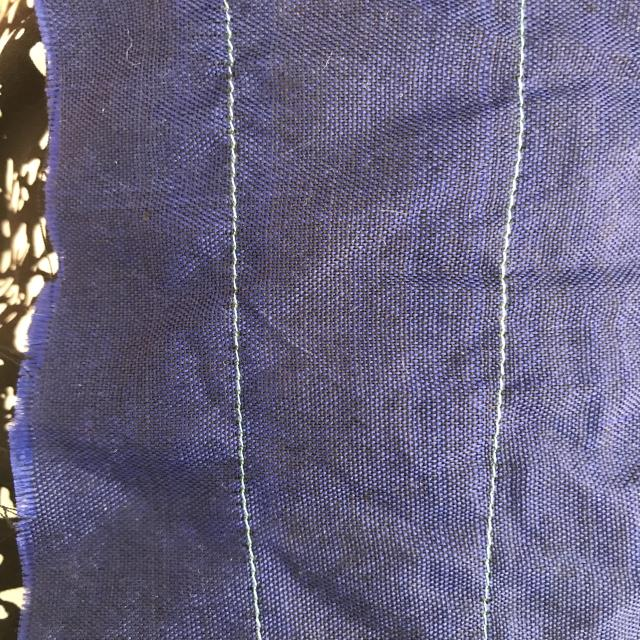good: (230, 400, 270, 582), (222, 104, 255, 316)
